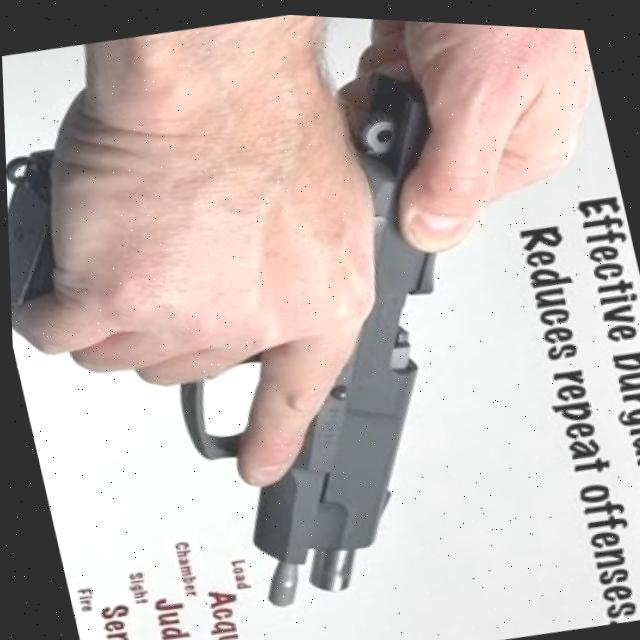pistol: (105, 42, 550, 627)
